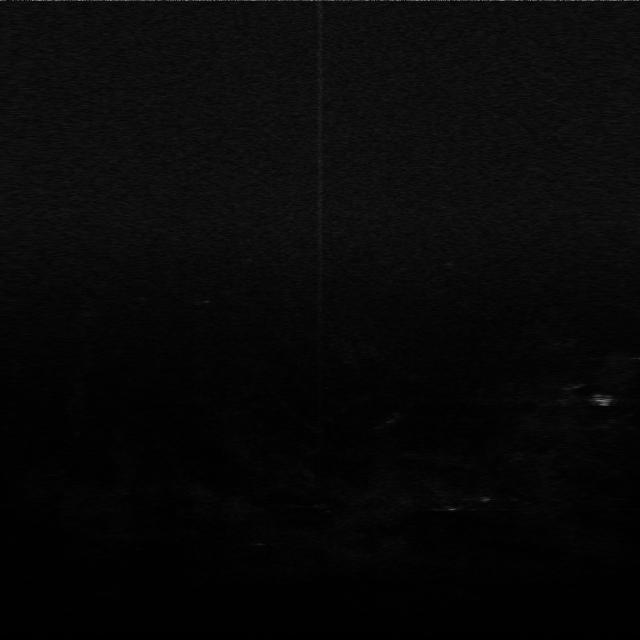rov: (591, 392, 617, 410)
